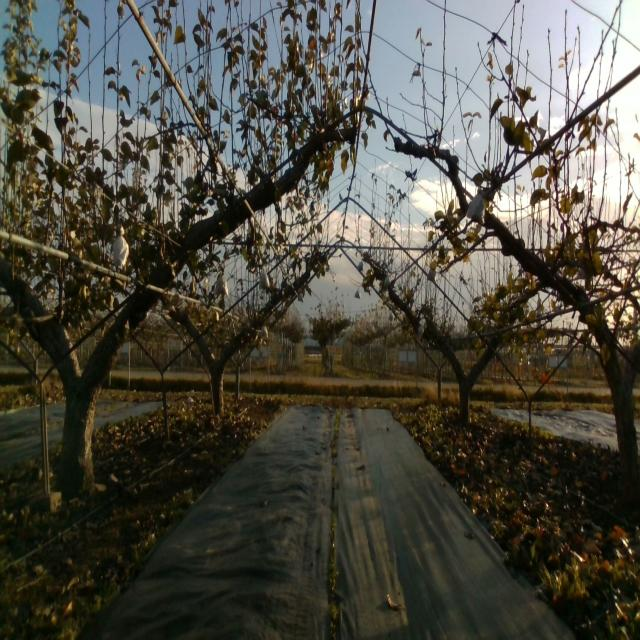pearbags: (111, 225, 130, 268), (465, 192, 486, 228), (213, 272, 229, 292), (258, 270, 272, 290)
